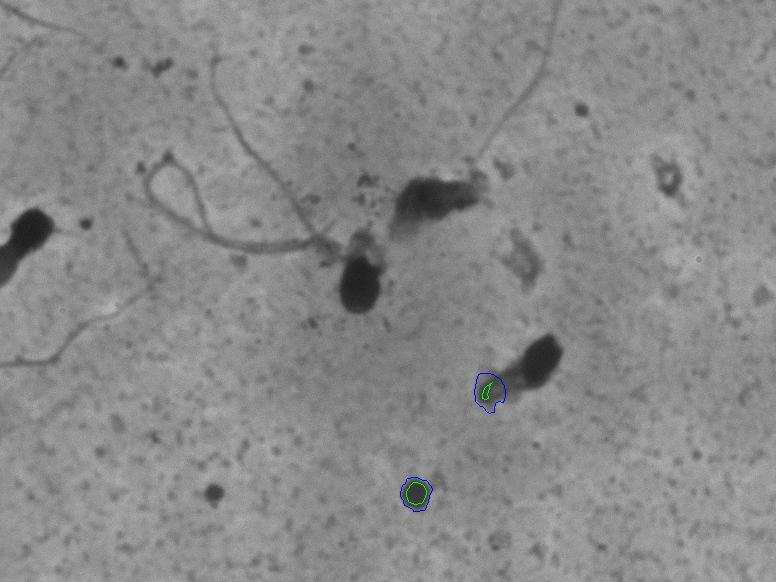Abnormal: (454, 300, 584, 440), (313, 211, 395, 342)
